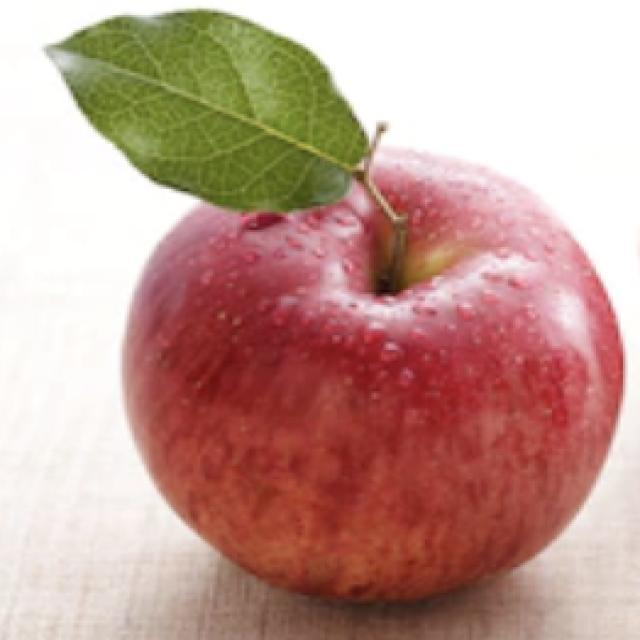Apple: (120, 134, 626, 605)
